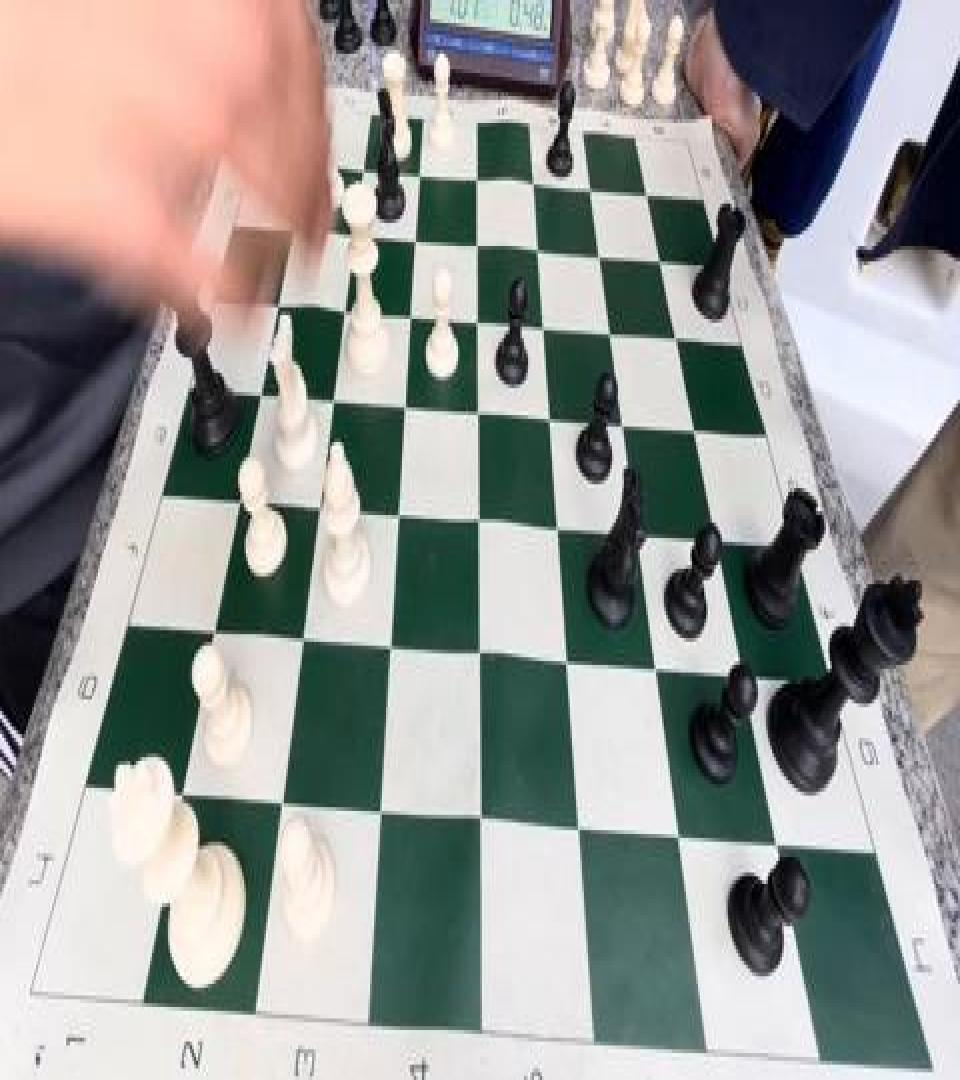xcorner: (577, 165, 599, 208), (521, 159, 543, 202), (296, 144, 318, 187), (647, 234, 669, 277), (586, 230, 608, 273), (404, 217, 426, 260), (344, 213, 366, 256), (283, 209, 305, 252), (662, 313, 684, 356), (596, 307, 618, 350), (334, 288, 356, 331), (268, 284, 290, 327), (681, 403, 703, 446), (465, 388, 487, 431), (393, 382, 415, 425), (322, 378, 344, 421), (623, 509, 645, 552), (544, 503, 566, 546), (308, 484, 330, 527), (229, 478, 251, 521), (730, 649, 752, 692), (465, 630, 487, 673), (203, 609, 225, 652), (763, 820, 785, 863), (565, 803, 587, 846), (466, 795, 488, 838), (269, 780, 291, 823), (170, 772, 192, 815), (633, 169, 655, 211), (464, 156, 486, 198), (408, 152, 430, 194), (352, 148, 374, 190), (525, 227, 547, 269), (465, 221, 487, 263), (530, 304, 552, 346), (465, 298, 487, 340), (399, 294, 421, 336), (608, 400, 630, 442), (537, 394, 559, 436), (250, 373, 272, 415), (703, 515, 725, 557), (465, 498, 487, 540), (386, 490, 408, 532), (641, 644, 663, 686), (553, 636, 575, 678), (378, 623, 400, 665), (290, 617, 312, 659), (664, 811, 686, 853), (367, 788, 389, 830)
